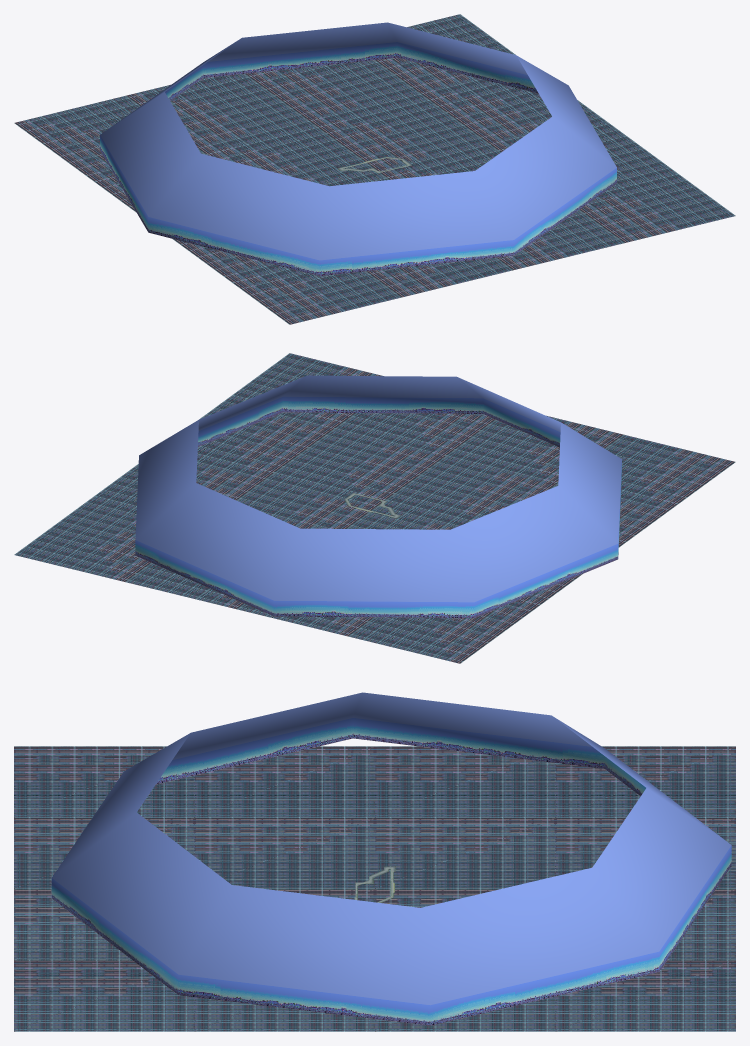
File: FZero_mute_city_1.fbx
The picture shows the model from 3 angles, top to bottom: view 1: azimuth 30°, elevation 25°; view 2: azimuth 150°, elevation 25°; view 3: azimuth 270°, elevation 25°; orthographic projection. The views are drawn at different scales.
Visible parts, largest first — view 1: F-ZeroMap01MuteCity1, Sphere; view 2: Sphere, F-ZeroMap01MuteCity1; view 3: F-ZeroMap01MuteCity1, Sphere.
Boxes of the visible parts, bbox=[...] form: F-ZeroMap01MuteCity1: bbox=[14, 14, 735, 324]; Sphere: bbox=[100, 22, 616, 275]; Sphere: bbox=[135, 375, 621, 617]; F-ZeroMap01MuteCity1: bbox=[14, 353, 735, 663]; F-ZeroMap01MuteCity1: bbox=[14, 746, 735, 1031]; Sphere: bbox=[51, 692, 731, 1025].
Size of the model in its own units: 22842 by 2999 by 23817.
